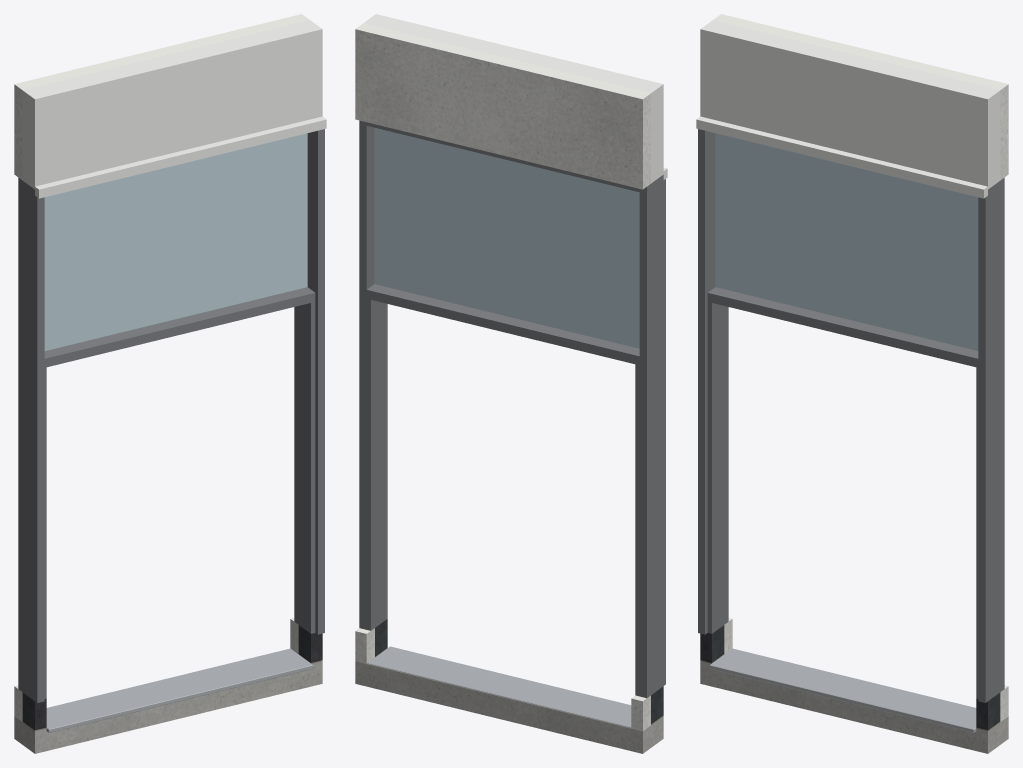
File: s_door2.glb
3 views of the same model, side by side, from view 1: azimuth 30°, elevation 25°; view 2: azimuth 150°, elevation 25°; view 3: azimuth 330°, elevation 25° (orthographic).
Visible parts, largest first — view 1: s_door2_glass, s_door2_panel_w, s_door2_mull, s_door2_steel, s_door2_concrete, s_door2_plaster, s_door2_block_d; view 2: s_door2_glass, s_door2_mull, s_door2_plaster, s_door2_concrete, s_door2_steel, s_door2_panel_w, s_door2_block_d; view 3: s_door2_glass, s_door2_panel_w, s_door2_mull, s_door2_steel, s_door2_concrete, s_door2_plaster, s_door2_block_d.
Boxes of the visible parts, box(x1,y1,x2,y2) form: s_door2_glass: box(44, 133, 307, 350); s_door2_panel_w: box(22, 20, 326, 198); s_door2_mull: box(18, 129, 324, 702); s_door2_steel: box(46, 648, 313, 732); s_door2_concrete: box(14, 661, 322, 753); s_door2_plaster: box(14, 14, 309, 721); s_door2_block_d: box(22, 625, 322, 731); s_door2_glass: box(374, 127, 639, 348); s_door2_mull: box(359, 120, 665, 698); s_door2_plaster: box(355, 23, 650, 731); s_door2_concrete: box(355, 661, 663, 753); s_door2_steel: box(367, 646, 631, 727); s_door2_panel_w: box(364, 14, 667, 183); s_door2_block_d: box(375, 619, 663, 724); s_door2_glass: box(715, 133, 978, 350); s_door2_panel_w: box(696, 20, 1000, 198); s_door2_mull: box(698, 129, 1004, 702); s_door2_steel: box(709, 648, 976, 732); s_door2_concrete: box(700, 661, 1008, 753); s_door2_plaster: box(713, 14, 1008, 721); s_door2_block_d: box(700, 625, 1000, 731).
Bounding box in the file's own units: 2 × 4.35 × 0.3.
Materials: 7 (3 with a texture image).
